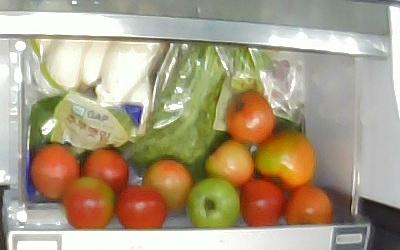tomato: (255, 126, 316, 189), (185, 177, 240, 228), (31, 144, 80, 200), (63, 177, 115, 228), (142, 160, 193, 212), (225, 91, 275, 143), (204, 139, 254, 185), (115, 185, 166, 228), (241, 178, 285, 226), (84, 149, 129, 194), (286, 186, 332, 224)
